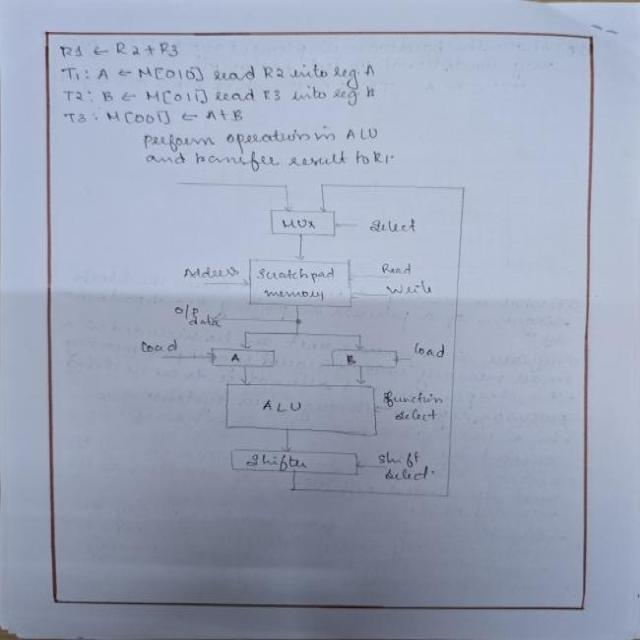Figure Detection - v3 Dataset Version2: (124, 172, 494, 520)
